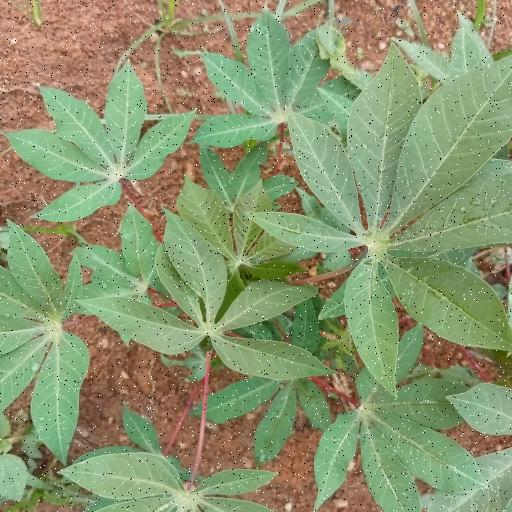Cassava_Mosaic: (258, 61, 512, 370), (100, 212, 334, 382), (6, 72, 192, 226), (204, 22, 372, 152), (0, 236, 91, 456)
